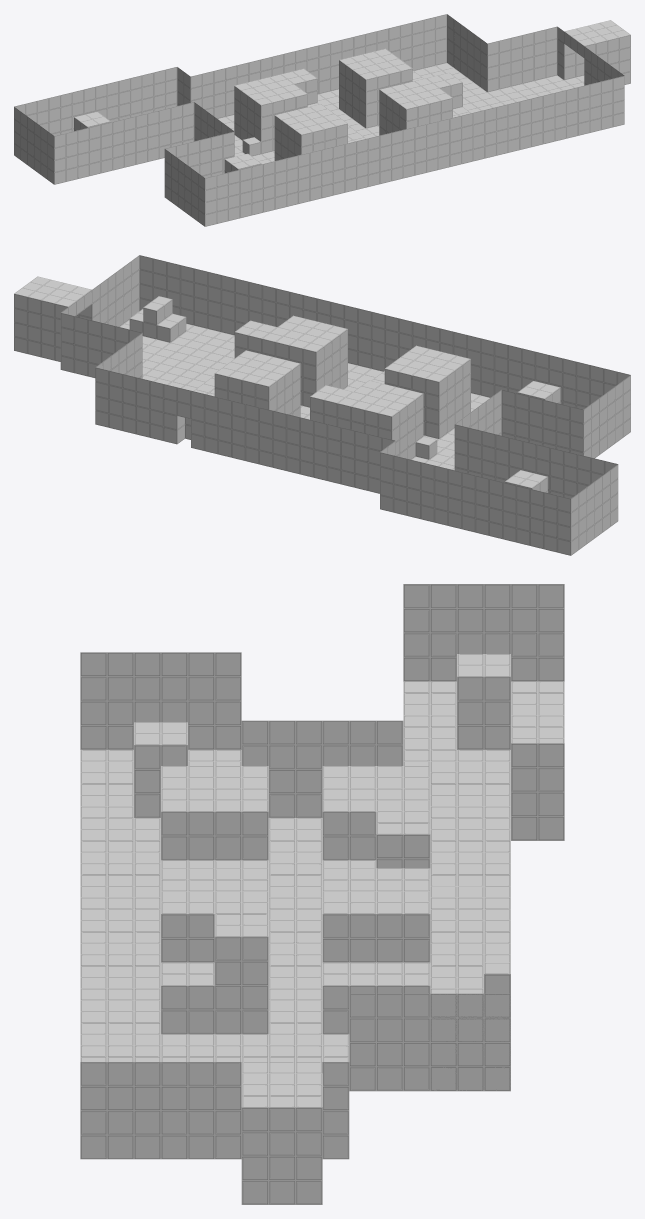
Rendered from level01.FBX.
The picture shows the model from 3 angles, top to bottom: view 1: azimuth 30°, elevation 25°; view 2: azimuth 150°, elevation 25°; view 3: azimuth 270°, elevation 25°; orthographic projection. The views are drawn at different scales.
Parts seen in each view (by area): view 1: Box027; view 2: Box027; view 3: Box027.
Part boxes in pixels (box(x1,y1,x2,y2)): Box027: box(14, 14, 630, 226); Box027: box(14, 255, 630, 555); Box027: box(80, 584, 564, 1204).
Size of the model in its own units: 46 by 18 by 4.
1 material, 1 textured.
